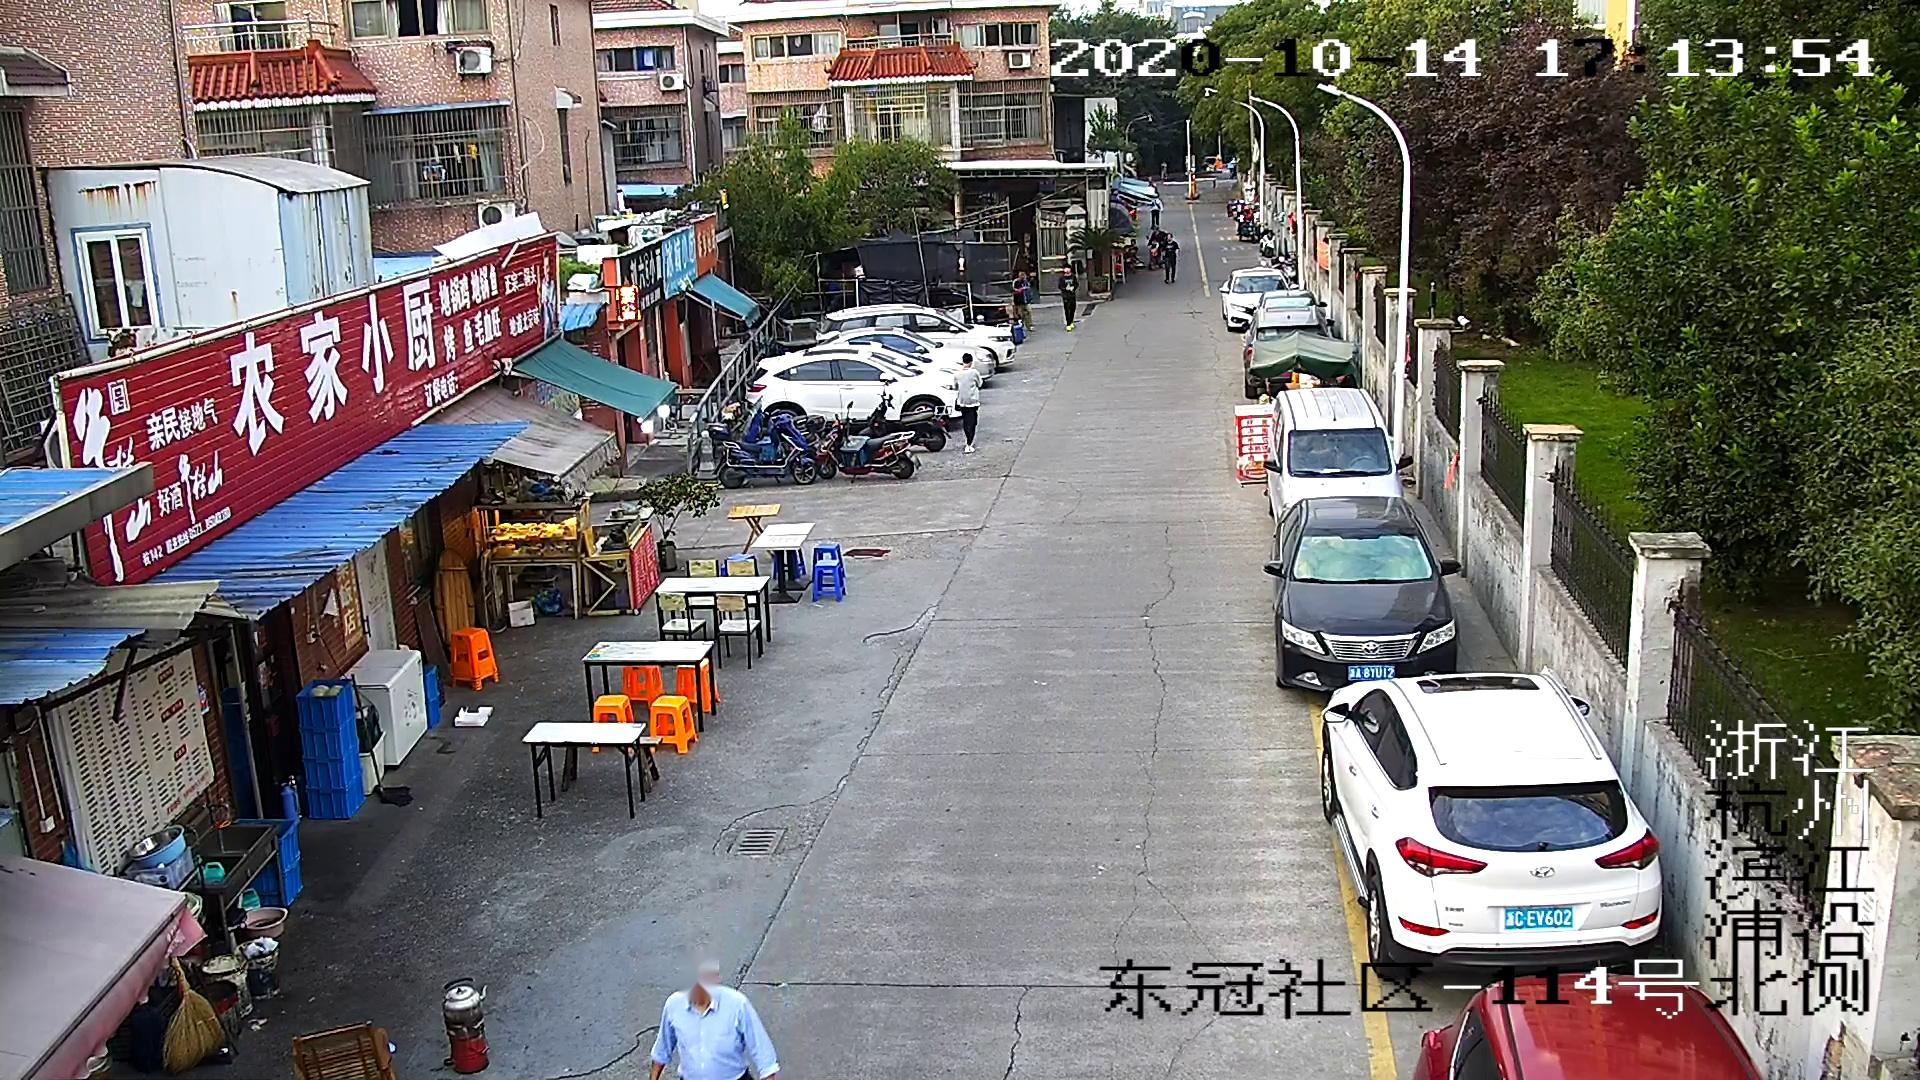chair: (559, 735, 663, 794), (709, 589, 762, 671), (448, 625, 498, 694), (647, 694, 699, 756), (651, 589, 707, 642), (673, 655, 720, 715), (589, 694, 636, 753), (620, 662, 665, 715), (811, 559, 847, 603), (810, 541, 845, 583)
table: (520, 719, 647, 824), (579, 640, 715, 731), (653, 574, 771, 653), (748, 521, 816, 605), (725, 502, 781, 560)
table_chair: (578, 638, 723, 757), (517, 715, 667, 827), (650, 551, 774, 673), (746, 518, 847, 608)
umbrella: (1247, 328, 1360, 382)
uncertain: (771, 545, 806, 580)
